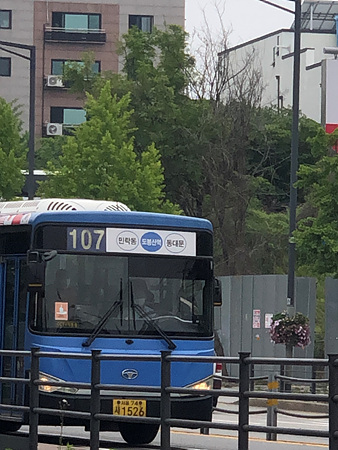bnum: (70, 227, 104, 250)
